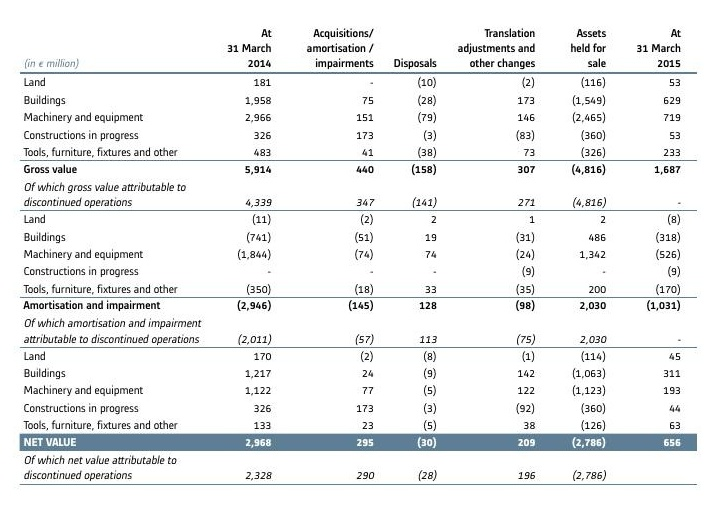table: (0, 0, 720, 506)
